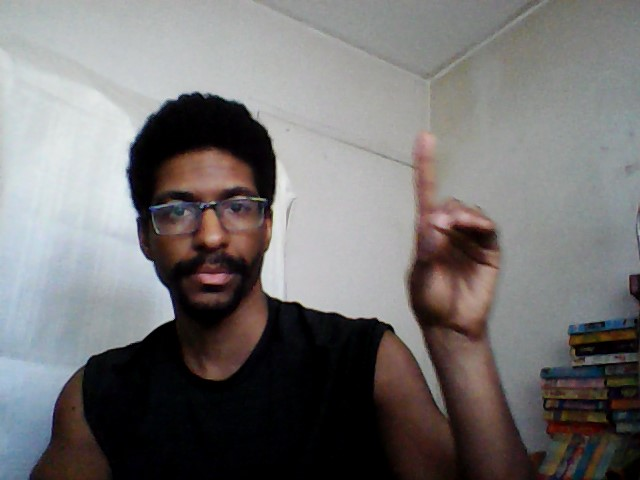d: (400, 128, 506, 339)
